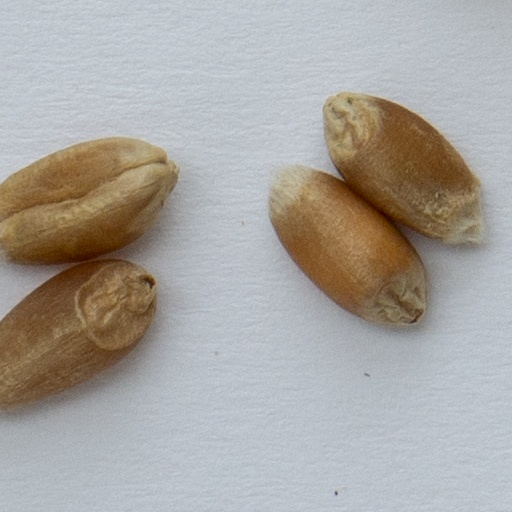Wheat-grain-poly: (264, 165, 430, 331), (324, 92, 490, 254), (0, 259, 156, 413), (0, 136, 179, 267)
